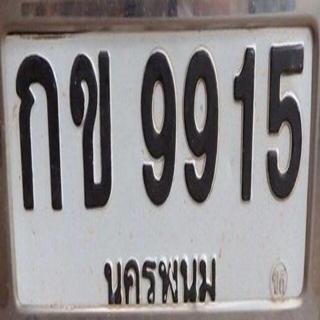A01: (12, 51, 63, 215)
A02: (63, 47, 123, 215)
N01: (227, 44, 260, 205)
N05: (263, 39, 310, 205)
N09: (178, 44, 226, 208), (135, 45, 178, 209)
P29: (89, 244, 226, 309)
